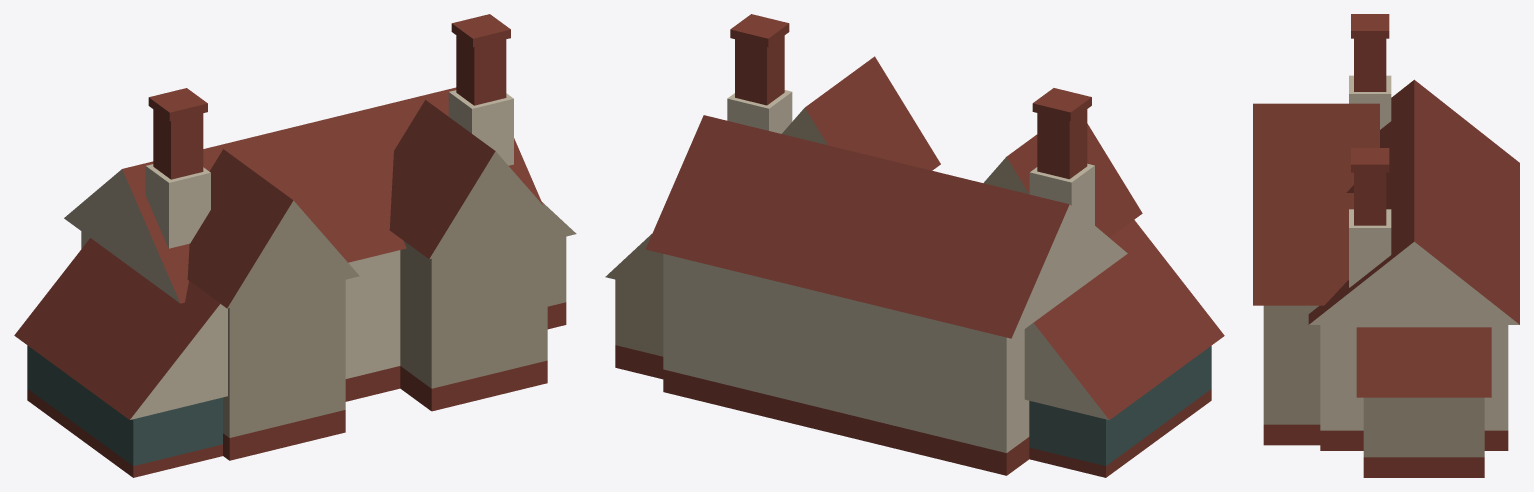
The model's file is hudec-memorial-massing.glb.
3 views of the same model, side by side, from view 1: azimuth 30°, elevation 25°; view 2: azimuth 150°, elevation 25°; view 3: azimuth 270°, elevation 25° (orthographic). The views are drawn at different scales.
Visible parts, largest first — view 1: hudec-memorial-massing; view 2: hudec-memorial-massing; view 3: hudec-memorial-massing.
Part boxes in pixels (x1,y1,x2,y2): hudec-memorial-massing: (14, 14, 576, 477); hudec-memorial-massing: (605, 14, 1224, 477); hudec-memorial-massing: (1253, 14, 1519, 477).
Size of the model in its own units: 13.28 by 8.06 by 6.83.
